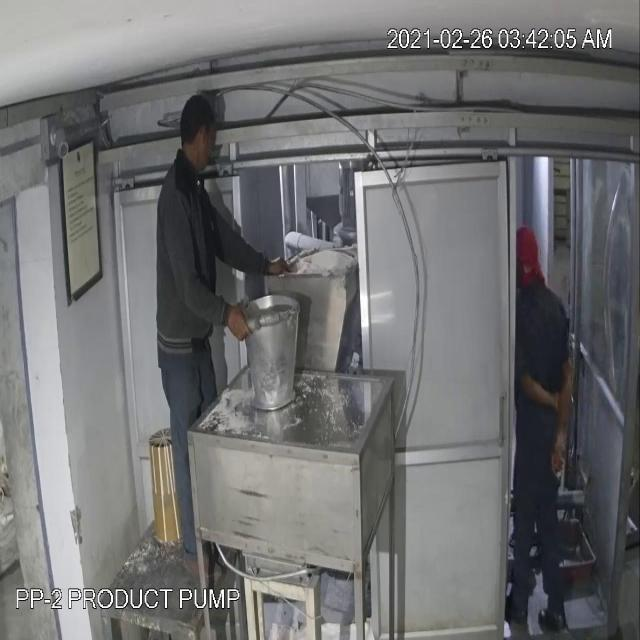no-helmet: (176, 89, 224, 184), (503, 222, 545, 298)
